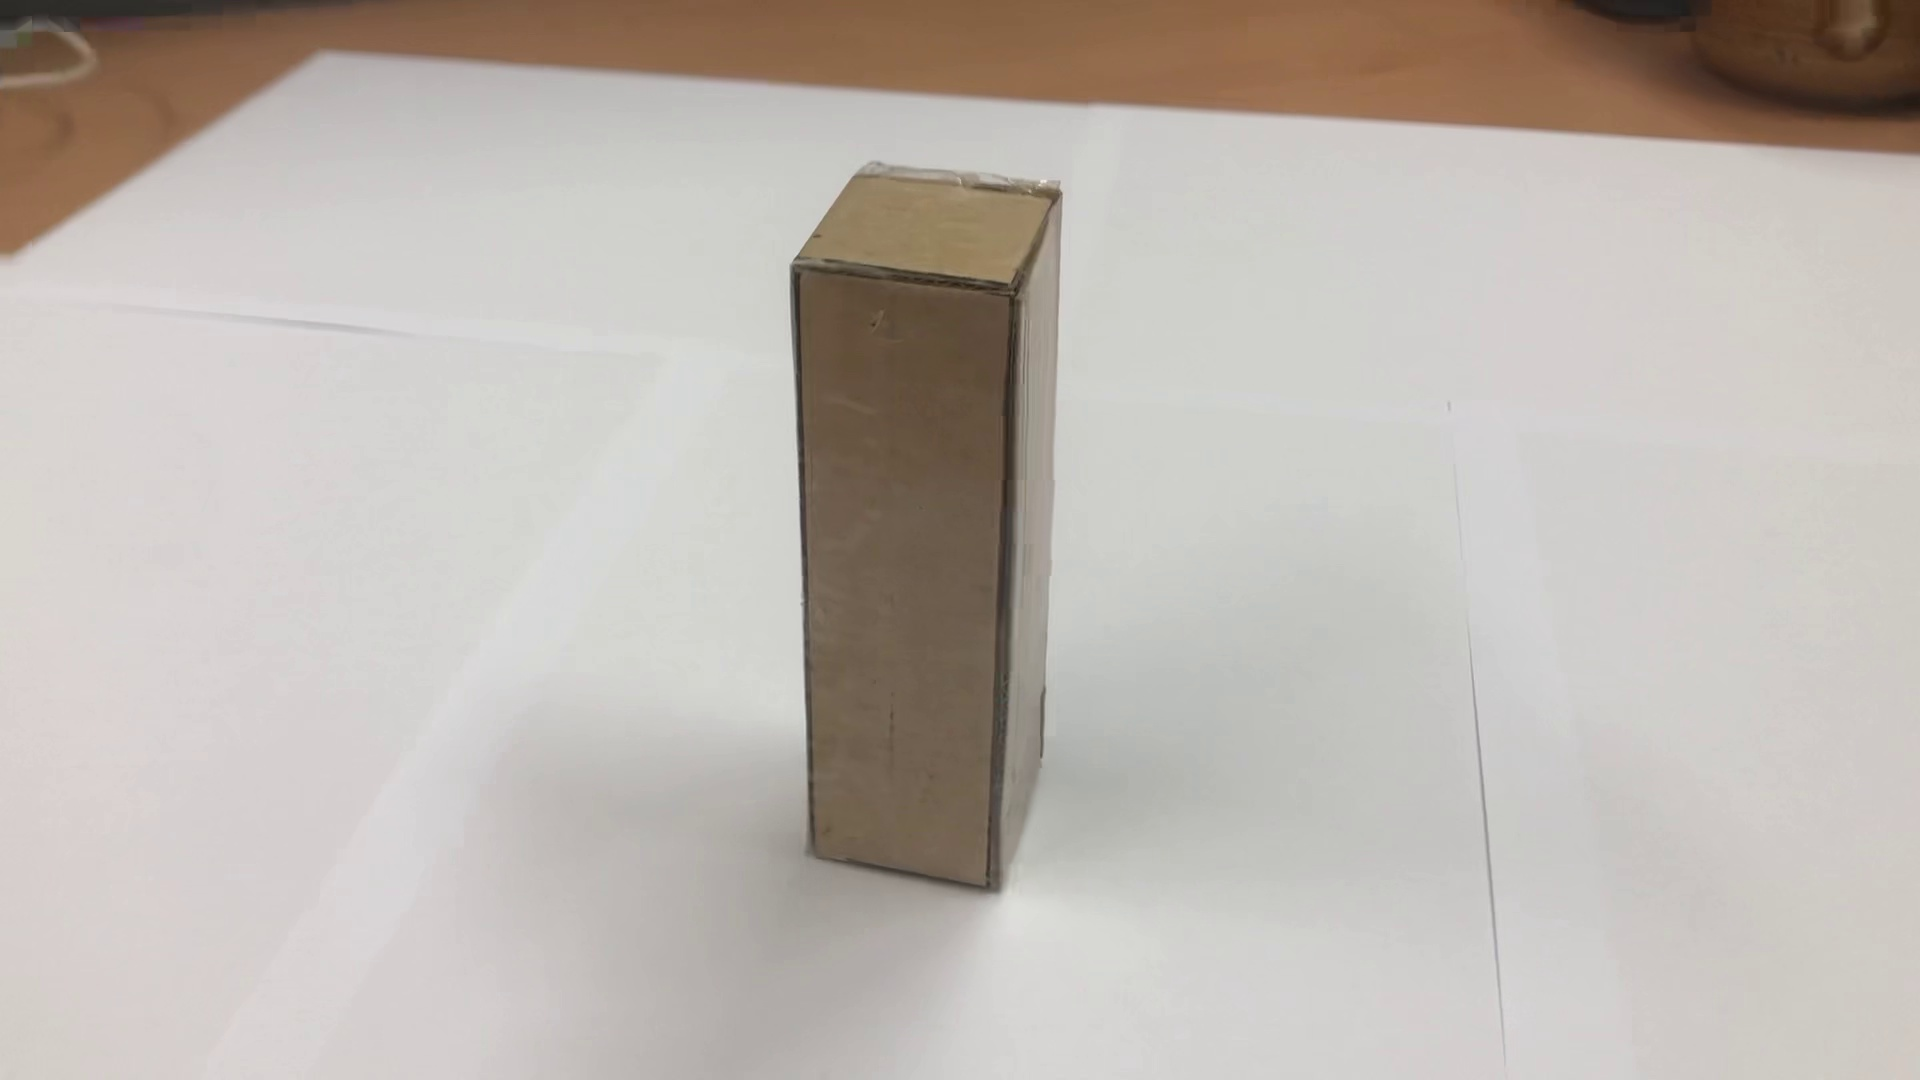box: (771, 148, 1072, 923)
